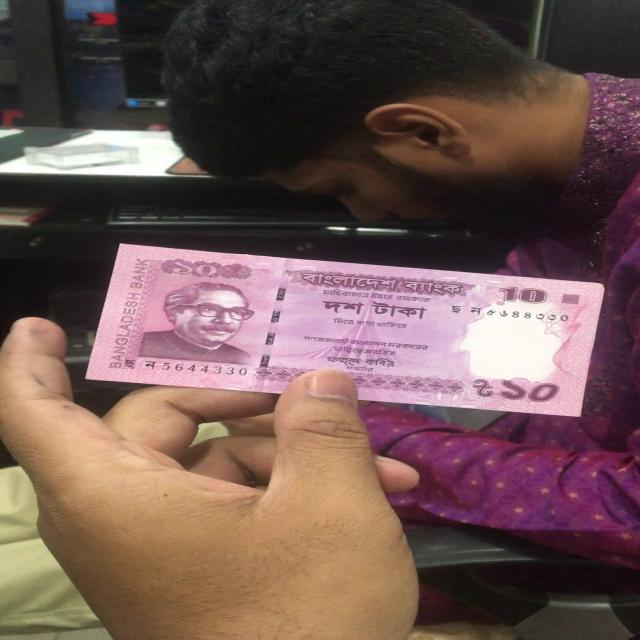Taka: (96, 242, 597, 422)
